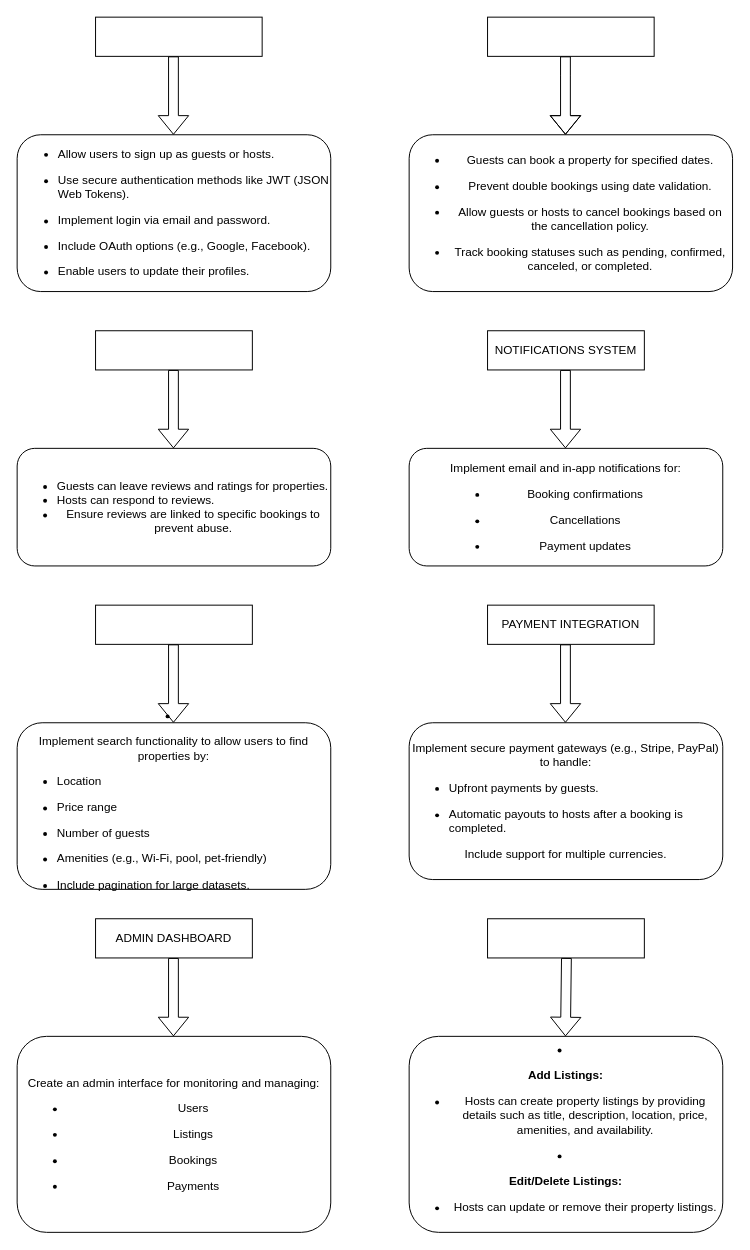
Image size: 750x1250. Some labels were removed from this diagram. Each missing label, with the box of its shape:
BOOKINGS MANAGEMENT: (487, 16, 654, 56)
PROPERTY LISTINGS: (487, 918, 644, 958)
REVIEWS AND RATINGS: (95, 330, 252, 370)
SEARCH AND FILTERING: (95, 604, 252, 644)
USER MANAGEMENT: (95, 16, 262, 56)
